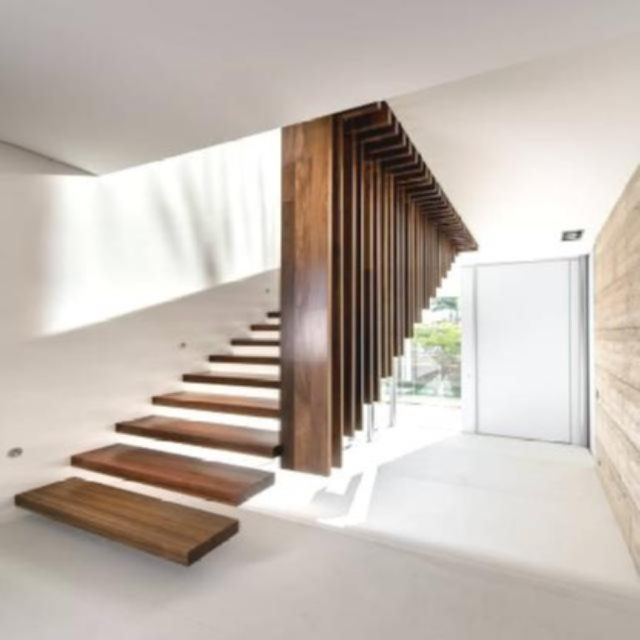stair: (1, 162, 479, 549)
